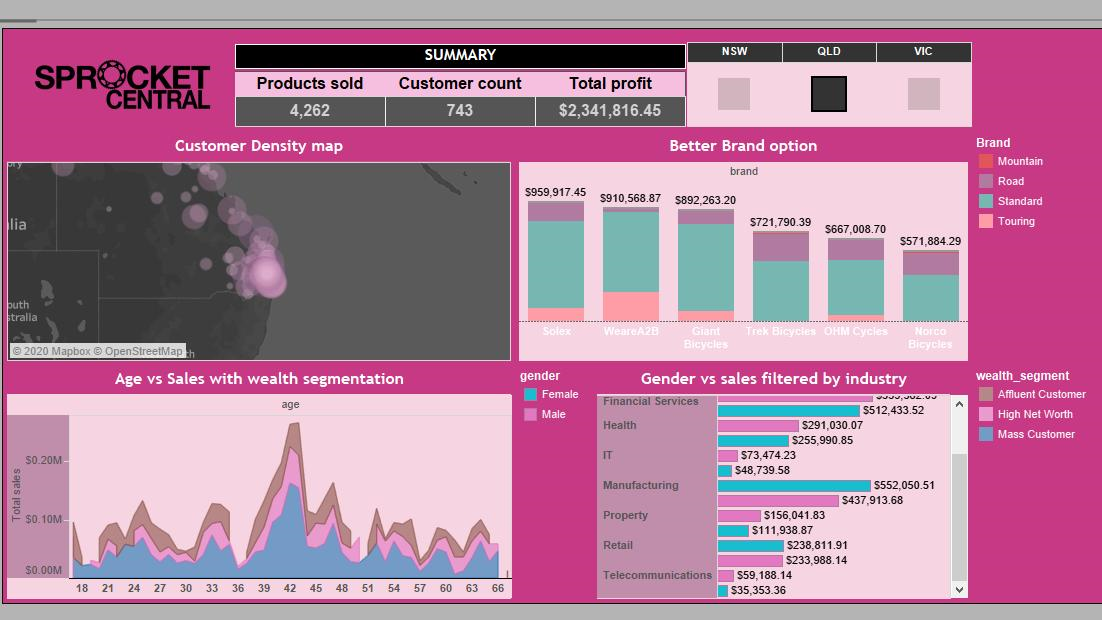

The page's visual inventory and layout, read from the dashboard file:
{"tool":"tableau","page":{"name":"Dashboard 1","canvas":[1155,592],"ordinal":0},"visuals":[{"type":"worksheet","box":[0,0,1155,592]},{"type":"worksheet","param":"horz","box":[8,8,1139,337]},{"type":"worksheet","box":[8,8,1139,337]},{"type":"worksheet","box":[8,8,971,103]},{"type":"worksheet","param":"I:/KPMG/sprocket_central_logo.png","box":[40,15,181,110]},{"type":"worksheet","title":"state Filter","mark":"Square","cols":["state"],"box":[693,22,285,85]},{"type":"worksheet","title":"Summary dashboard","mark":"Automatic","box":[241,24,451,83]},{"type":"worksheet","box":[8,111,1139,234]},{"type":"worksheet","param":"horz","box":[8,111,513,234]},{"type":"worksheet","title":"Customer Density Map","mark":"Automatic","box":[8,111,513,234]},{"type":"worksheet","param":"horz","box":[521,111,626,234]},{"type":"worksheet","title":"brand_better","mark":"Automatic","rows":["list_price","list_price"],"cols":["brand"],"box":[521,111,457.9,234]},{"type":"worksheet","title":"brand_better","mark":"Automatic","rows":["list_price","list_price"],"cols":["brand"],"param":"[federated.148fjsn1rop1jz19w3txe12ludpr].[none:product_line:nk]","box":[978.9,111,168,234]},{"type":"worksheet","box":[8,345,1139,239]},{"type":"worksheet","param":"horz","box":[8,345,591,239]},{"type":"worksheet","title":"Age vs sales","mark":"Area","rows":["list_price"],"cols":["Calculation_2289798959209529344"],"box":[8,345,513,239]},{"type":"worksheet","title":"Gender vs sales","mark":"Automatic","rows":["job_industry_category","gender"],"cols":["list_price"],"param":"[federated.148fjsn1rop1jz19w3txe12ludpr].[none:gender:nk]","box":[521,345,78,239]},{"type":"worksheet","param":"horz","box":[599,345,548,239]},{"type":"worksheet","title":"Gender vs sales","mark":"Automatic","rows":["job_industry_category","gender"],"cols":["list_price"],"box":[599,345,380,239]},{"type":"worksheet","title":"Age vs sales","mark":"Area","rows":["list_price"],"cols":["Calculation_2289798959209529344"],"param":"[federated.148fjsn1rop1jz19w3txe12ludpr].[none:wealth_segment:nk]","box":[979,345,168,239]}]}

Visuals, with their boxes on the page's 1155x592 design canvas (x1, y1, x2, y2). These are canvas units, not pixel positions in the 1102x620 screenshot, which may show the page scaled, cropped or inside an application window:
worksheet: (0,0,1155,592)
worksheet: (8,8,1147,345)
worksheet: (8,8,1147,345)
worksheet: (8,8,979,111)
worksheet: (40,15,221,125)
"state Filter" worksheet (Square marks): (693,22,978,107)
"Summary dashboard" worksheet: (241,24,692,107)
worksheet: (8,111,1147,345)
worksheet: (8,111,521,345)
"Customer Density Map" worksheet: (8,111,521,345)
worksheet: (521,111,1147,345)
"brand_better" worksheet: (521,111,979,345)
"brand_better" worksheet: (979,111,1147,345)
worksheet: (8,345,1147,584)
worksheet: (8,345,599,584)
"Age vs sales" worksheet (Area marks): (8,345,521,584)
"Gender vs sales" worksheet: (521,345,599,584)
worksheet: (599,345,1147,584)
"Gender vs sales" worksheet: (599,345,979,584)
"Age vs sales" worksheet (Area marks): (979,345,1147,584)
